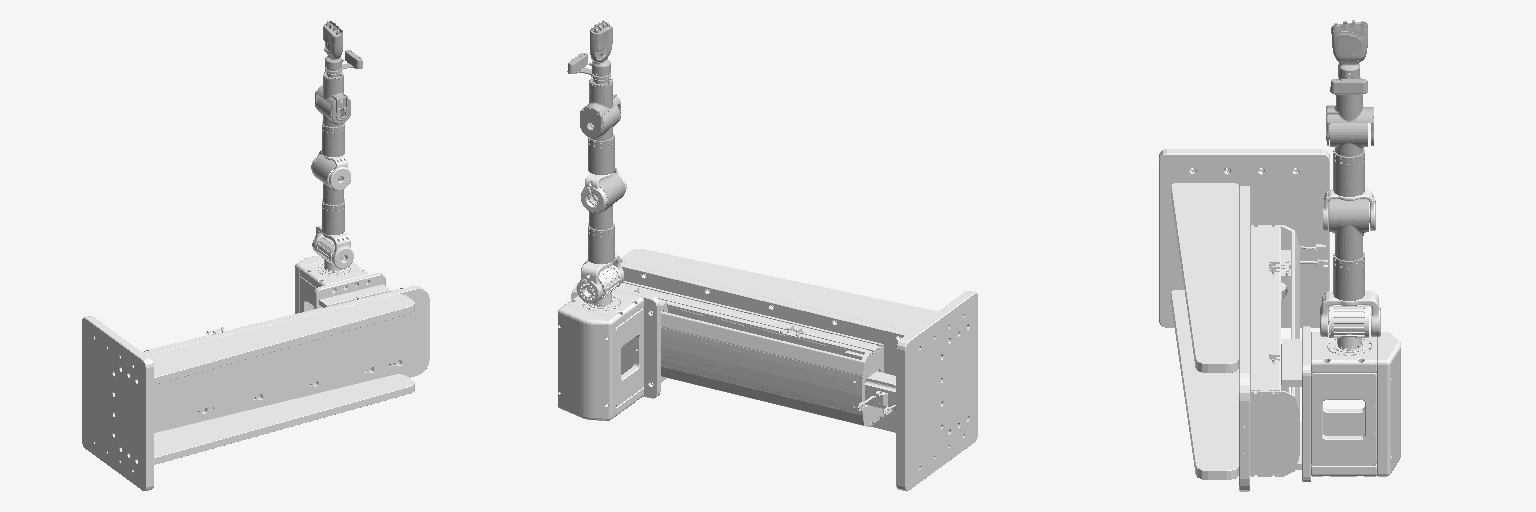
robot.urdf — L_JEARM:
<?xml version="1.0" encoding="utf-8"?>
<!-- This URDF was automatically created by SolidWorks to URDF Exporter! Originally created by [author] ([email redacted]) 
     Commit Version: 1.6.0-4-g7f85cfe  Build Version: 1.6.7995.38578
     For more information, please see http://wiki.ros.org/sw_urdf_exporter -->
<robot
  name="L_JEARM">
  <link
    name="base_link">
    <inertial>
      <origin
        xyz="-0.40373 -0.2184 -0.21199"
        rpy="0 0 0" />
      <mass
        value="34.216" />
      <inertia
        ixx="0.54165"
        ixy="-0.029534"
        ixz="-0.0001037"
        iyy="3.8398"
        iyz="-7.0807E-05"
        izz="3.6685" />
    </inertial>
    <visual>
      <origin
        xyz="0 0 0"
        rpy="0 0 0" />
      <geometry>
        <mesh
          filename="base_link.STL" />
      </geometry>
      <material
        name="">
        <color
          rgba="1 1 1 1" />
      </material>
    </visual>
    <collision>
      <origin
        xyz="0 0 0"
        rpy="0 0 0" />
      <geometry>
        <mesh
          filename="base_link.STL" />
      </geometry>
    </collision>
  </link>
  <link
    name="Link1">
    <inertial>
      <origin
        xyz="2.7836E-05 0.0032223 -0.0061763"
        rpy="0 0 0" />
      <mass
        value="0.15903" />
      <inertia
        ixx="0.00024741"
        ixy="1.7103E-07"
        ixz="-5.1201E-08"
        iyy="0.00018207"
        iyz="2.5958E-06"
        izz="0.00021676" />
    </inertial>
    <visual>
      <origin
        xyz="0 0 0"
        rpy="0 0 0" />
      <geometry>
        <mesh
          filename="Link1.STL" />
      </geometry>
      <material
        name="">
        <color
          rgba="1 1 1 1" />
      </material>
    </visual>
    <collision>
      <origin
        xyz="0 0 0"
        rpy="0 0 0" />
      <geometry>
        <mesh
          filename="Link1.STL" />
      </geometry>
    </collision>
  </link>
  <joint
    name="joint1"
    type="revolute">
    <origin
      xyz="0 0 0"
      rpy="0 0 0" />
    <parent
      link="base_link" />
    <child
      link="Link1" />
    <axis
      xyz="0 0 1" />
    <limit
      lower="-5.14"
      upper="5.14"
      effort="100"
      velocity="3.14" />
  </joint>
  <link
    name="Link2">
    <inertial>
      <origin
        xyz="1.3538E-07 -0.025603 0.0022931"
        rpy="0 0 0" />
      <mass
        value="0.24379" />
      <inertia
        ixx="0.00094174"
        ixy="7.9265E-10"
        ixz="2.0047E-09"
        iyy="0.00077932"
        iyz="7.4771E-06"
        izz="0.00032368" />
    </inertial>
    <visual>
      <origin
        xyz="0 0 0"
        rpy="0 0 0" />
      <geometry>
        <mesh
          filename="Link2.STL" />
      </geometry>
      <material
        name="">
        <color
          rgba="1 1 1 1" />
      </material>
    </visual>
    <collision>
      <origin
        xyz="0 0 0"
        rpy="0 0 0" />
      <geometry>
        <mesh
          filename="Link2.STL" />
      </geometry>
    </collision>
  </link>
  <joint
    name="joint2"
    type="revolute">
    <origin
      xyz="0 0 0"
      rpy="-1.5708 0 0" />
    <parent
      link="Link1" />
    <child
      link="Link2" />
    <axis
      xyz="0 0 1" />
    <limit
      lower="-2.96"
      upper="2.96"
      effort="100"
      velocity="3.14" />
  </joint>
  <link
    name="Link3">
    <inertial>
      <origin
        xyz="-0.0013392 0.00027359 -0.078005"
        rpy="0 0 0" />
      <mass
        value="0.24955" />
      <inertia
        ixx="0.00049972"
        ixy="-1.565E-07"
        ixz="2.0036E-05"
        iyy="0.00052699"
        iyz="-5.9993E-07"
        izz="0.00028114" />
    </inertial>
    <visual>
      <origin
        xyz="0 0 0"
        rpy="0 0 0" />
      <geometry>
        <mesh
          filename="Link3.STL" />
      </geometry>
      <material
        name="">
        <color
          rgba="0.81961 0.81961 0.81961 1" />
      </material>
    </visual>
    <collision>
      <origin
        xyz="0 0 0"
        rpy="0 0 0" />
      <geometry>
        <mesh
          filename="Link3.STL" />
      </geometry>
    </collision>
  </link>
  <joint
    name="joint3"
    type="revolute">
    <origin
      xyz="0 -0.2719 0"
      rpy="1.5708 0 0" />
    <parent
      link="Link2" />
    <child
      link="Link3" />
    <axis
      xyz="0 0 1" />
    <limit
      lower="-2.96"
      upper="2.96"
      effort="100"
      velocity="3.14" />
  </joint>
  <link
    name="Link4">
    <inertial>
      <origin
        xyz="0.0025298 -0.015986 -0.0037526"
        rpy="0 0 0" />
      <mass
        value="0.14036" />
      <inertia
        ixx="0.0004781"
        ixy="1.265E-05"
        ixz="-1.167E-06"
        iyy="0.00040537"
        iyz="8.4401E-06"
        izz="0.00017537" />
    </inertial>
    <visual>
      <origin
        xyz="0 0 0"
        rpy="0 0 0" />
      <geometry>
        <mesh
          filename="Link4.STL" />
      </geometry>
      <material
        name="">
        <color
          rgba="1 1 1 1" />
      </material>
    </visual>
    <collision>
      <origin
        xyz="0 0 0"
        rpy="0 0 0" />
      <geometry>
        <mesh
          filename="Link4.STL" />
      </geometry>
    </collision>
  </link>
  <joint
    name="joint4"
    type="revolute">
    <origin
      xyz="-0.008 0 0"
      rpy="-1.5708 0 0" />
    <parent
      link="Link3" />
    <child
      link="Link4" />
    <axis
      xyz="0 0 1" />
    <limit
      lower="-2.27"
      upper="1.8"
      effort="100"
      velocity="3.14" />
  </joint>
  <link
    name="Link5">
    <inertial>
      <origin
        xyz="1.2792E-07 -0.0016321 -0.052024"
        rpy="0 0 0" />
      <mass
        value="0.20346" />
      <inertia
        ixx="0.00028328"
        ixy="-9.1339E-10"
        ixz="1.3106E-09"
        iyy="0.00029079"
        iyz="8.3228E-06"
        izz="0.00023151" />
    </inertial>
    <visual>
      <origin
        xyz="0 0 0"
        rpy="0 0 0" />
      <geometry>
        <mesh
          filename="Link5.STL" />
      </geometry>
      <material
        name="">
        <color
          rgba="0.81961 0.81961 0.81961 1" />
      </material>
    </visual>
    <collision>
      <origin
        xyz="0 0 0"
        rpy="0 0 0" />
      <geometry>
        <mesh
          filename="Link5.STL" />
      </geometry>
    </collision>
  </link>
  <joint
    name="joint5"
    type="revolute">
    <origin
      xyz="0.008 -0.2189 0"
      rpy="1.5708 0 0" />
    <parent
      link="Link4" />
    <child
      link="Link5" />
    <axis
      xyz="0 0 1" />
    <limit
      lower="-2.96"
      upper="2.96"
      effort="100"
      velocity="3.14" />
  </joint>
  <link
    name="Link6">
    <inertial>
      <origin
        xyz="-4.9639E-08 -0.048851 0.0014891"
        rpy="0 0 0" />
      <mass
        value="0.13951" />
      <inertia
        ixx="0.00023544"
        ixy="8.0518E-10"
        ixz="-6.4098E-10"
        iyy="0.00016545"
        iyz="5.5234E-05"
        izz="0.00018838" />
    </inertial>
    <visual>
      <origin
        xyz="0 0 0"
        rpy="0 0 0" />
      <geometry>
        <mesh
          filename="Link6.STL" />
      </geometry>
      <material
        name="">
        <color
          rgba="0.81961 0.81961 0.81961 1" />
      </material>
    </visual>
    <collision>
      <origin
        xyz="0 0 0"
        rpy="0 0 0" />
      <geometry>
        <mesh
          filename="Link6.STL" />
      </geometry>
    </collision>
  </link>
  <joint
    name="joint6"
    type="revolute">
    <origin
      xyz="0 0 0"
      rpy="-1.5708 0 0" />
    <parent
      link="Link5" />
    <child
      link="Link6" />
    <axis
      xyz="0 0 1" />
    <limit
      lower="-1.6"
      upper="1.55"
      effort="100"
      velocity="3.14" />
  </joint>
  <link
    name="Link7">
    <inertial>
      <origin
        xyz="0.012652 0.00060356 0.067612"
        rpy="0 0 0" />
      <mass
        value="0.36915" />
      <inertia
        ixx="0.00044755"
        ixy="-1.4027E-07"
        ixz="5.8354E-06"
        iyy="0.00033738"
        iyz="-7.6821E-06"
        izz="0.00018678" />
    </inertial>
    <visual>
      <origin
        xyz="0 0 0"
        rpy="0 0 0" />
      <geometry>
        <mesh
          filename="Link7.STL" />
      </geometry>
      <material
        name="">
        <color
          rgba="0.81961 0.81961 0.81961 1" />
      </material>
    </visual>
    <collision>
      <origin
        xyz="0 0 0"
        rpy="0 0 0" />
      <geometry>
        <mesh
          filename="Link7.STL" />
      </geometry>
    </collision>
  </link>
  <joint
    name="joint7"
    type="revolute">
    <origin
      xyz="0 -0.124 0"
      rpy="1.5708 0 0" />
    <parent
      link="Link6" />
    <child
      link="Link7" />
    <axis
      xyz="0 0 1" />
    <limit
      lower="-2.96"
      upper="2.96"
      effort="100"
      velocity="3.14" />
  </joint>
</robot>

--- What the picture shows (computed from the rendered views, not written in the file) ---
The picture shows the robot from 3 angles, left to right: view 1: azimuth 30°, elevation 25°; view 2: azimuth 150°, elevation 25°; view 3: azimuth 270°, elevation 25°; orthographic projection.
Model L_JEARM with 8 links and 7 joints (7 revolute), rooted at base_link, posed every joint at zero.
Visible links, largest first — view 1: base_link, Link3, Link7, Link5, Link6, Link2, Link4; view 2: base_link, Link3, Link7, Link5, Link6, Link2, Link4, Link1; view 3: base_link, Link3, Link5, Link7, Link1, Link6, Link2, Link4.
Boxes of the visible links, left/top/right/bottom form: base_link: left=82, top=256, right=429, bottom=490; Link3: left=312, top=155, right=344, bottom=234; Link7: left=323, top=21, right=362, bottom=77; Link5: left=316, top=97, right=344, bottom=156; Link6: left=315, top=72, right=350, bottom=123; Link2: left=312, top=225, right=353, bottom=268; Link4: left=311, top=150, right=350, bottom=189; base_link: left=558, top=249, right=977, bottom=491; Link3: left=583, top=173, right=624, bottom=263; Link7: left=567, top=20, right=612, bottom=83; Link5: left=588, top=106, right=620, bottom=174; Link6: left=580, top=78, right=620, bottom=137; Link2: left=577, top=254, right=623, bottom=303; Link4: left=581, top=167, right=626, bottom=212; Link1: left=587, top=265, right=621, bottom=305; base_link: left=1159, top=149, right=1400, bottom=491; Link3: left=1329, top=199, right=1368, bottom=300; Link5: left=1330, top=123, right=1367, bottom=196; Link7: left=1330, top=20, right=1367, bottom=94; Link1: left=1328, top=305, right=1368, bottom=349; Link6: left=1326, top=95, right=1373, bottom=145; Link2: left=1320, top=291, right=1380, bottom=336; Link4: left=1323, top=189, right=1375, bottom=230.
Size in the robot's own frame: 1.13 by 0.5656 by 1.21 metres.
8 mesh visuals loaded from 8 distinct referenced files (8 binary STL).
